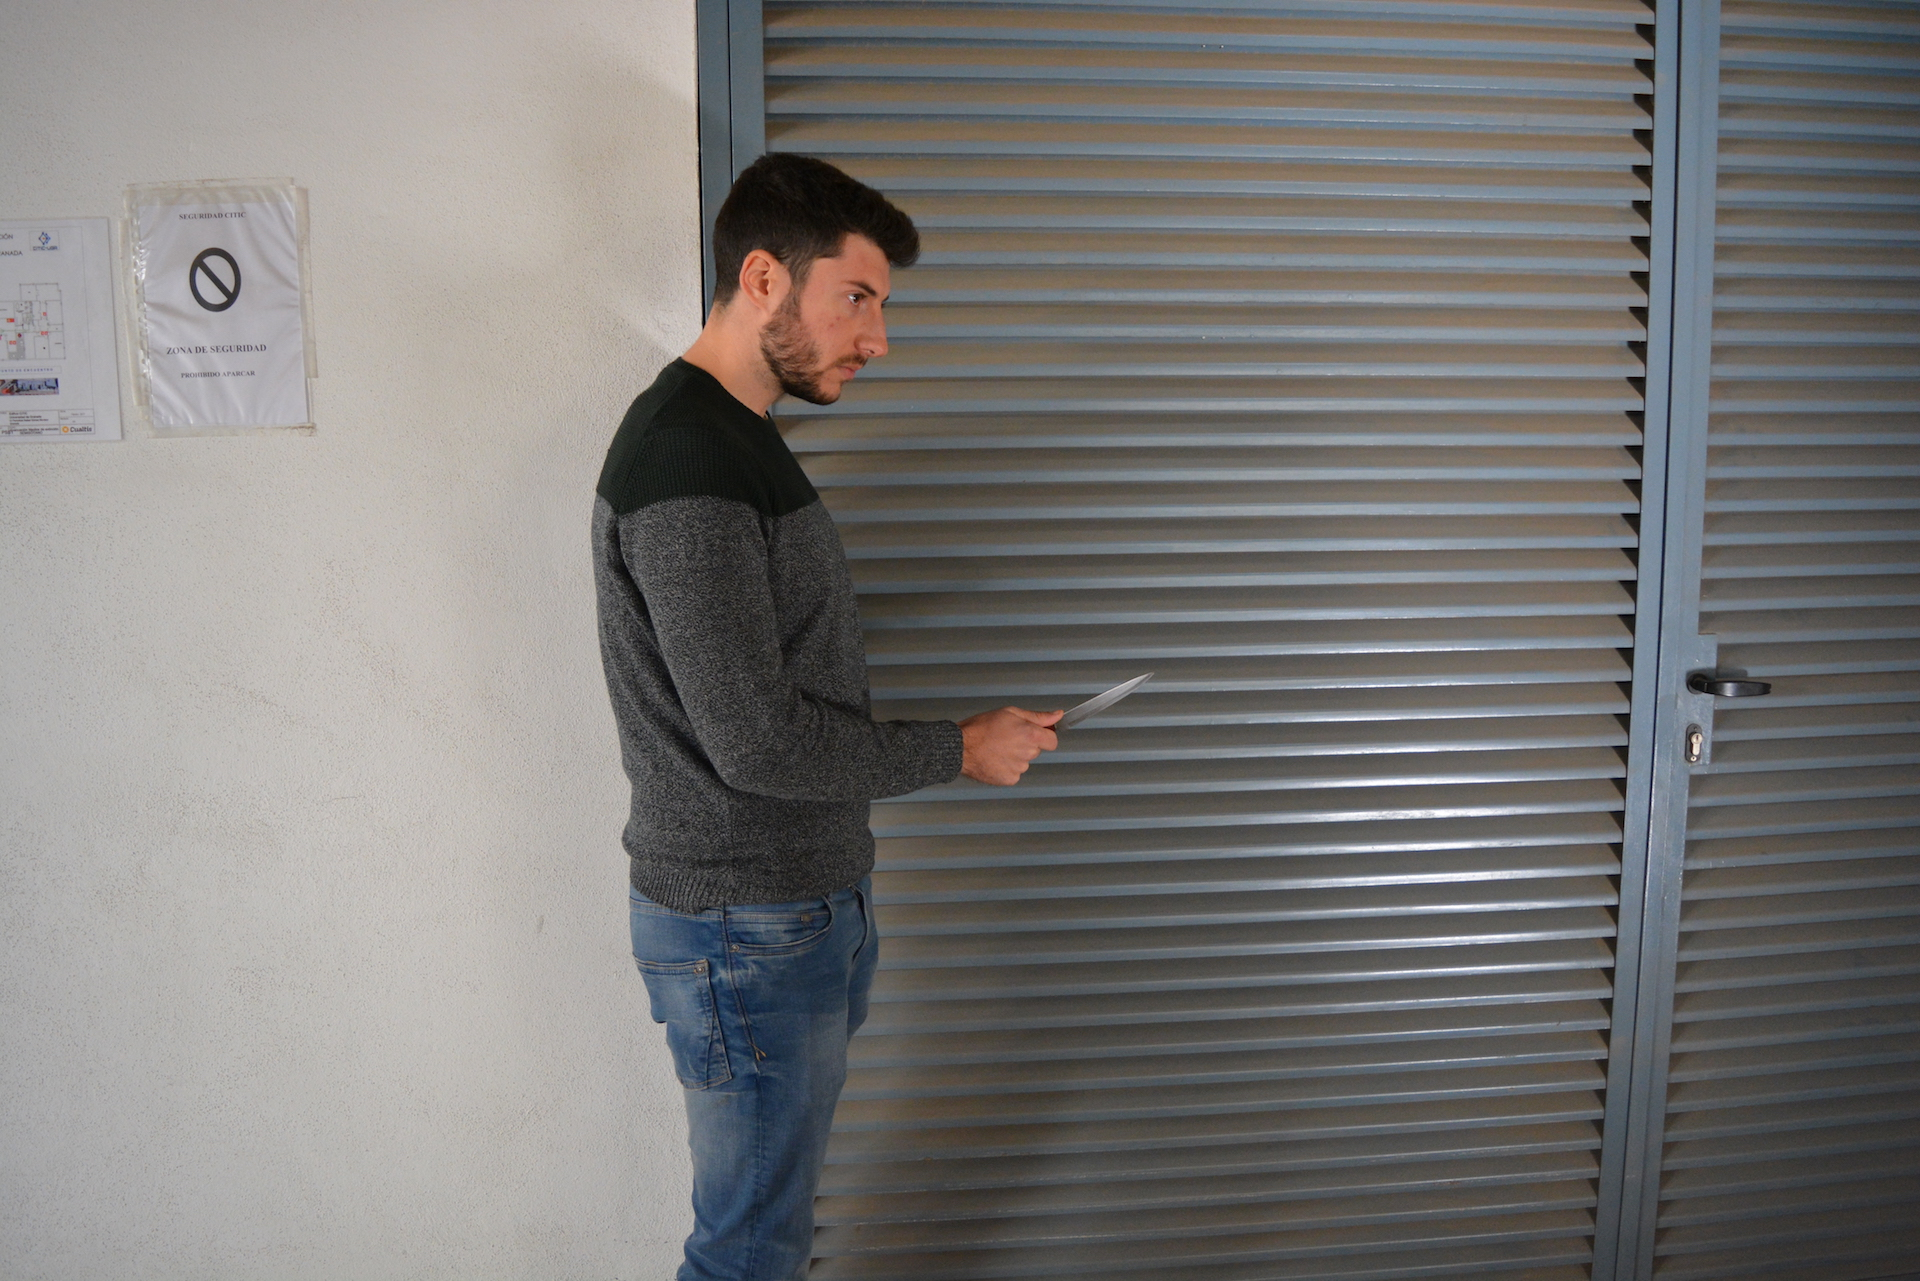knife: (1008, 663, 1168, 753)
